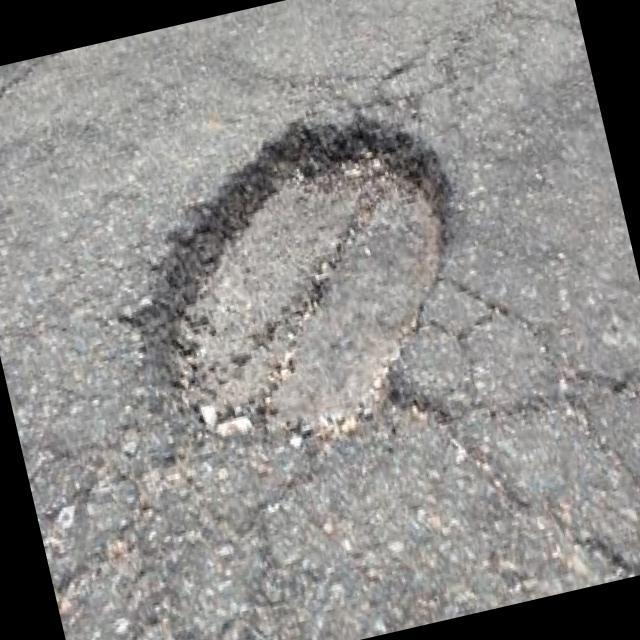Pothole: (70, 51, 521, 494)
